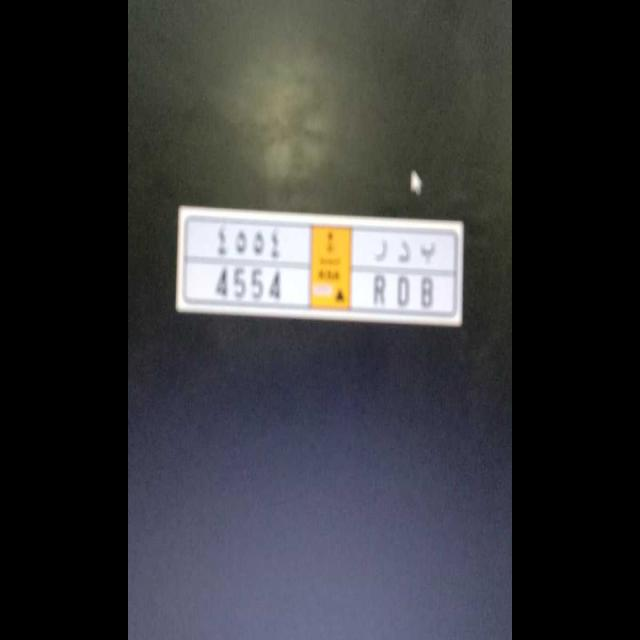license_plate: (184, 259, 458, 312)
